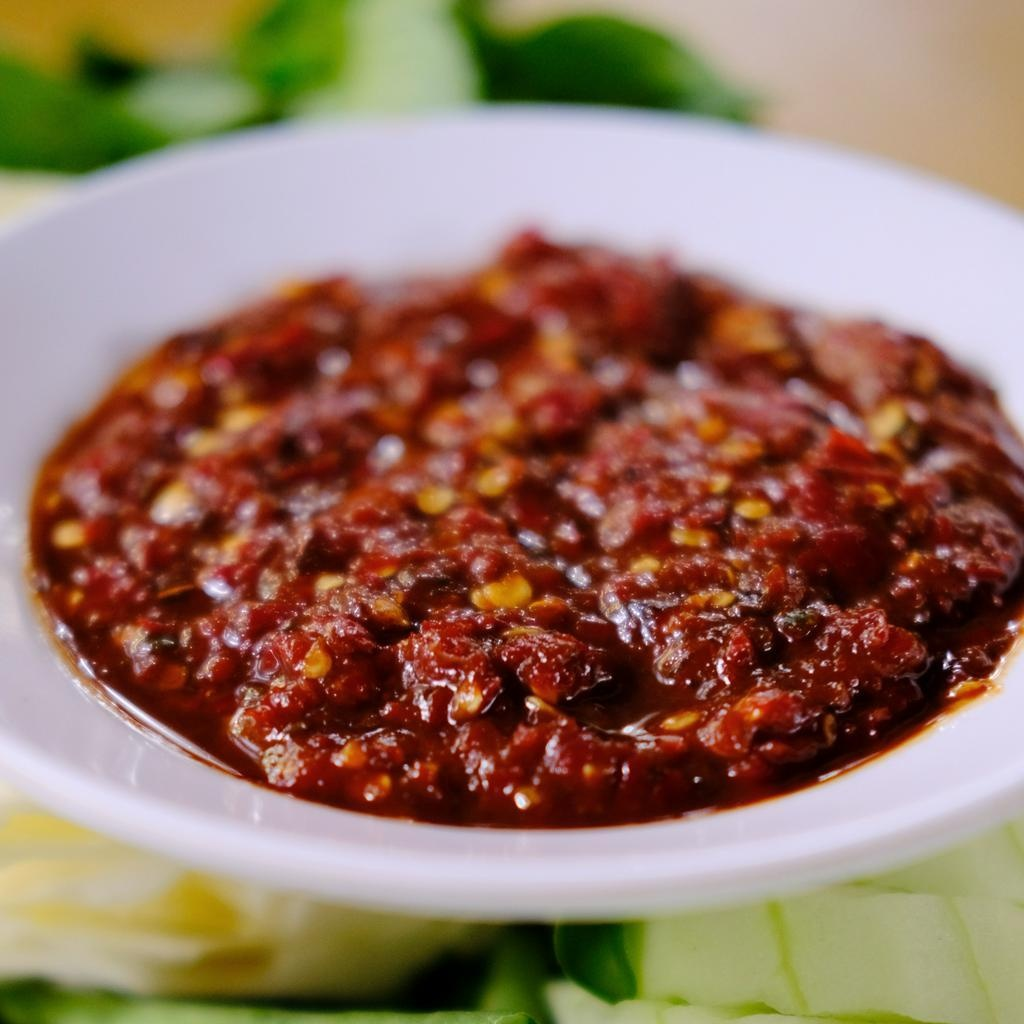sambal: (37, 230, 1020, 827)
